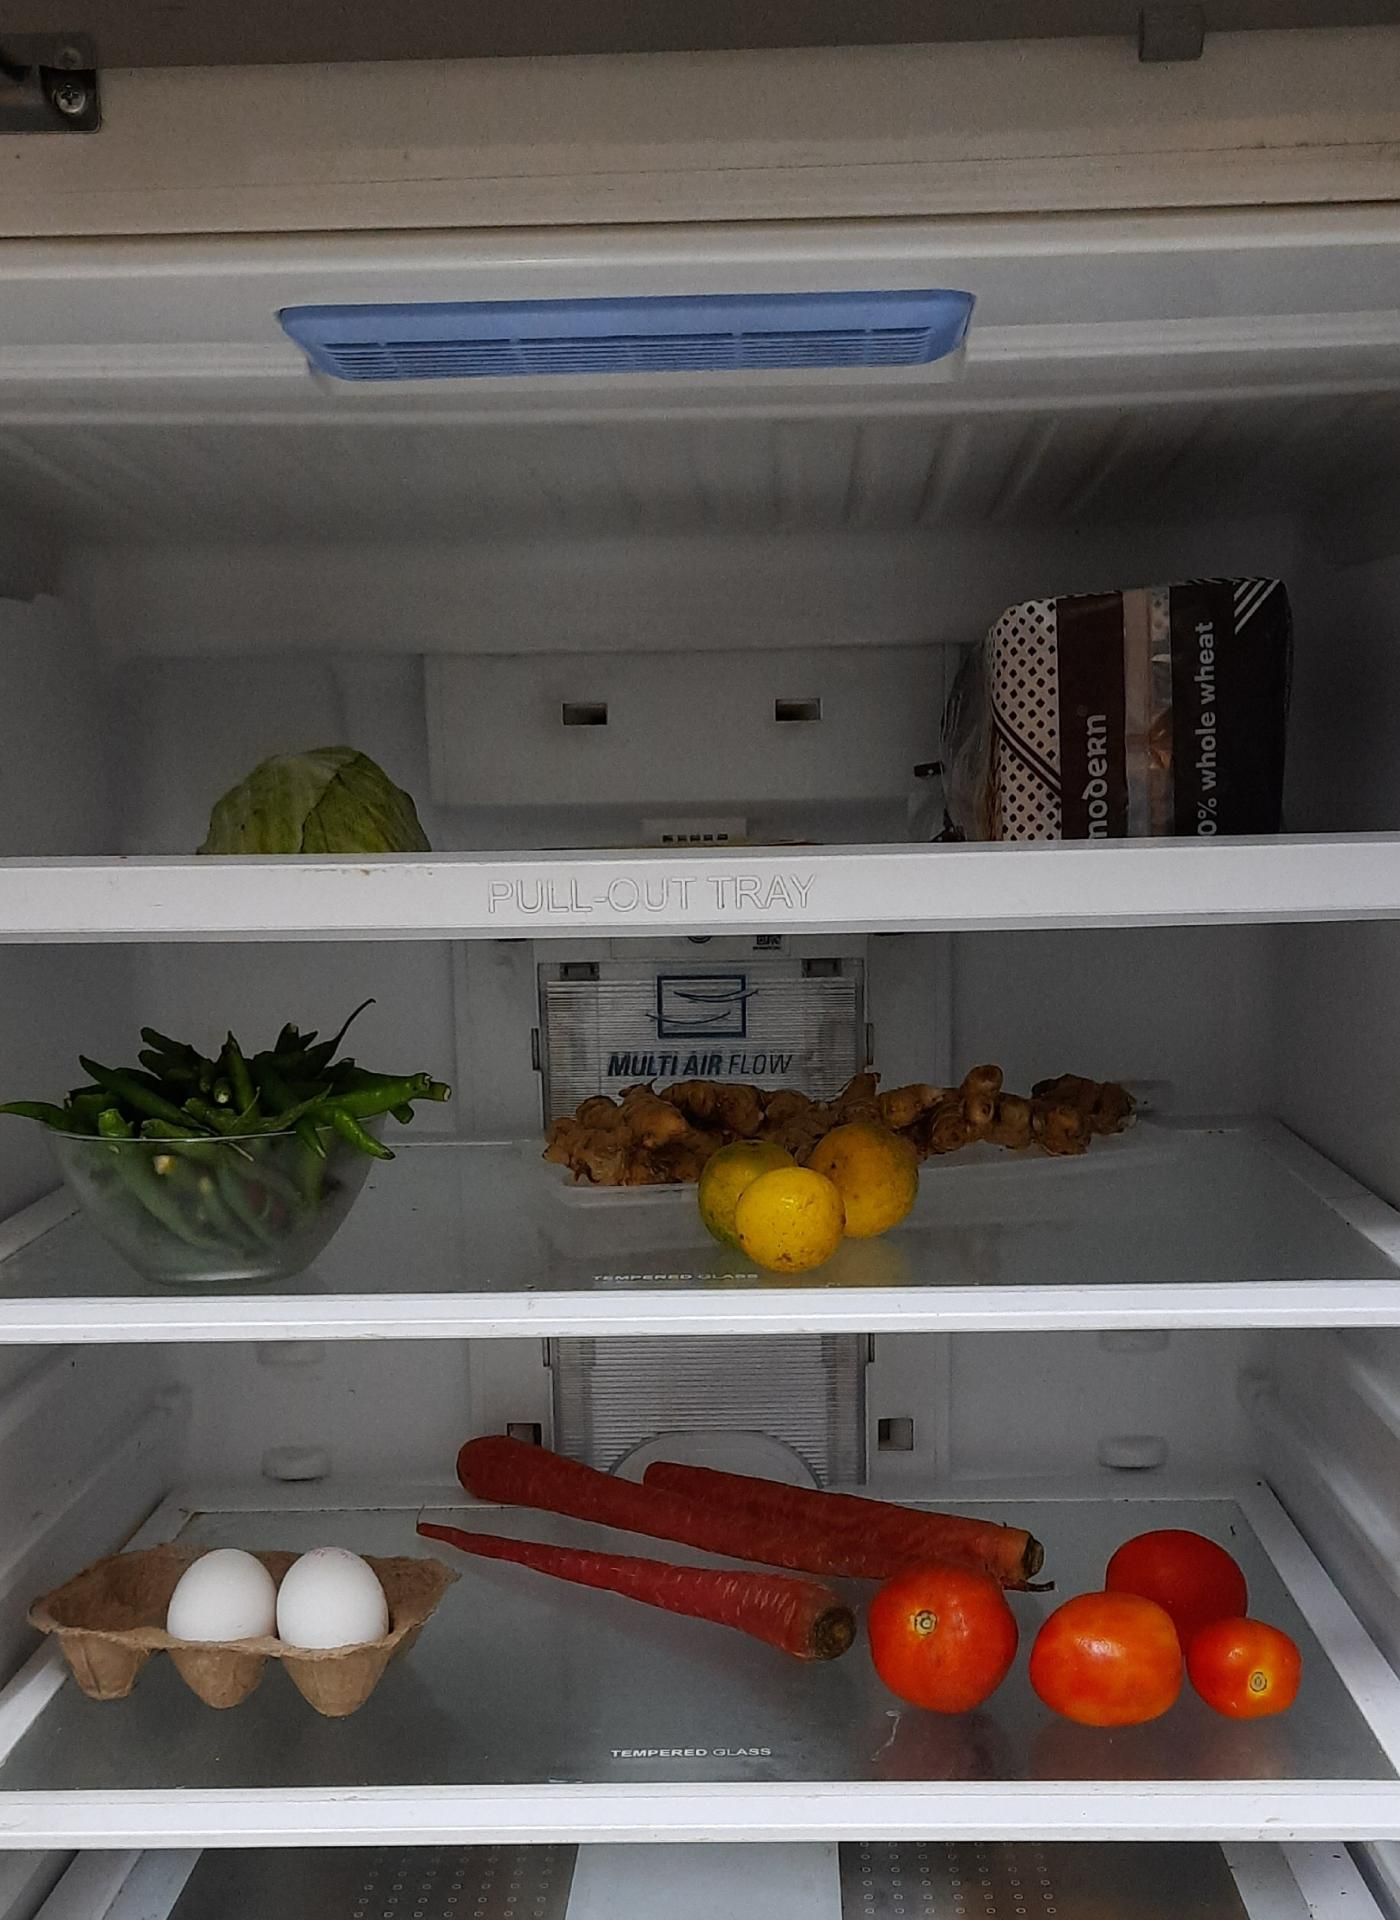bread: (927, 569, 1294, 842)
cabbage: (200, 753, 432, 859)
carrots: (420, 1439, 1063, 1661)
chillies: (46, 1014, 428, 1246)
egg: (165, 1544, 400, 1716)
ginger: (543, 1058, 1144, 1170)
lemon: (699, 1125, 920, 1263)
tomato: (1032, 1532, 1306, 1728), (859, 1561, 1014, 1717)
